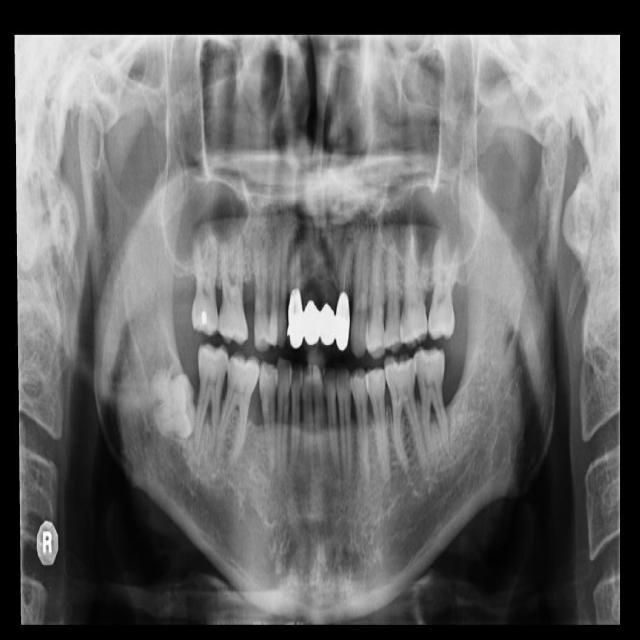52: (286, 286, 352, 352), (191, 288, 219, 339)
73: (336, 238, 356, 302), (618, 610, 627, 620)
BioHorizons Implant: (426, 222, 464, 343)
Blue Sky Bio Implant: (412, 343, 450, 459)
Caries: (188, 210, 220, 341)
Implant: (192, 340, 230, 454)
Keystone Dental Implant: (148, 367, 200, 442)
